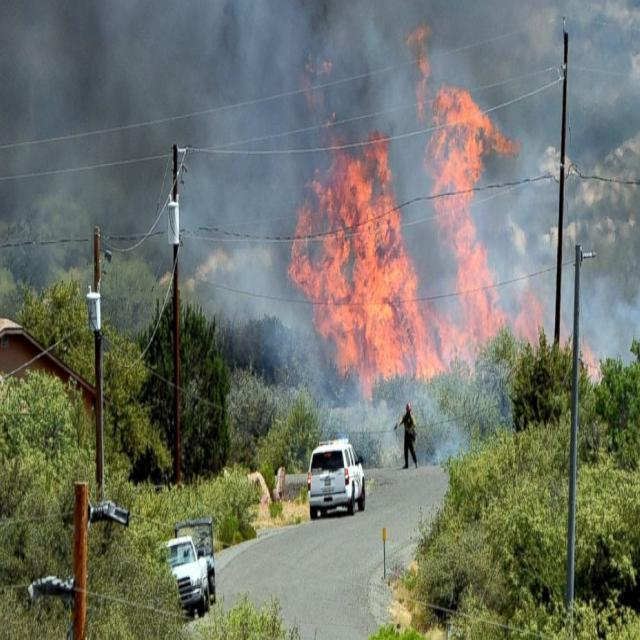Fire: (406, 20, 550, 378), (272, 110, 450, 396)
Smoke: (0, 0, 401, 465)
